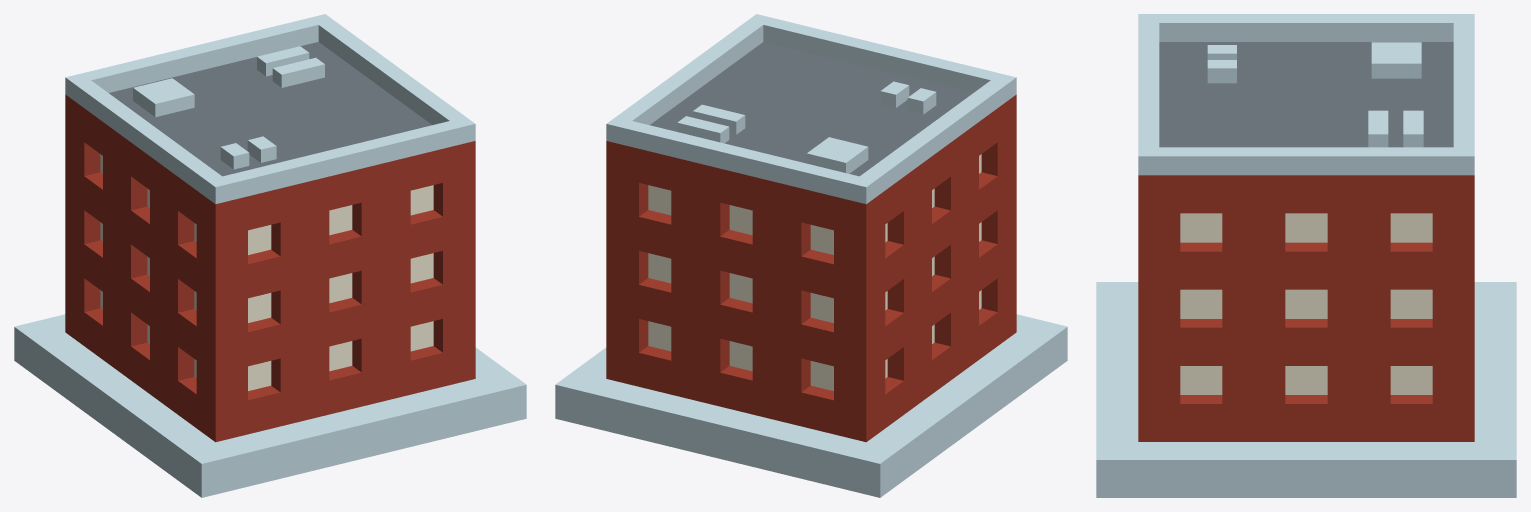
The model's file is Building_2_Base_Extra (Red).obj.
3 renders of one model, left to right at view 1: azimuth 30°, elevation 25°; view 2: azimuth 150°, elevation 25°; view 3: azimuth 270°, elevation 25°, orthographic. The views are drawn at different scales.
Visible parts, largest first — view 1: Building_2_Base_Extra_(Red); view 2: Building_2_Base_Extra_(Red); view 3: Building_2_Base_Extra_(Red).
Part boxes in pixels (left/top/right/bottom): Building_2_Base_Extra_(Red): left=14, top=14, right=526, bottom=497; Building_2_Base_Extra_(Red): left=555, top=14, right=1067, bottom=497; Building_2_Base_Extra_(Red): left=1096, top=14, right=1516, bottom=497.
Size of the model in its own units: 2 by 1.7 by 2.
